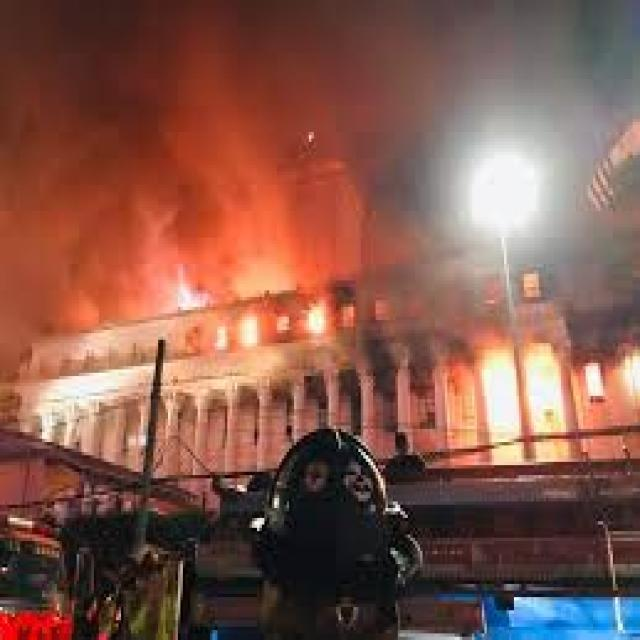Fire: (455, 342, 589, 465), (130, 226, 310, 304), (215, 309, 338, 346)
Smoke: (0, 19, 297, 238), (0, 227, 144, 336)
